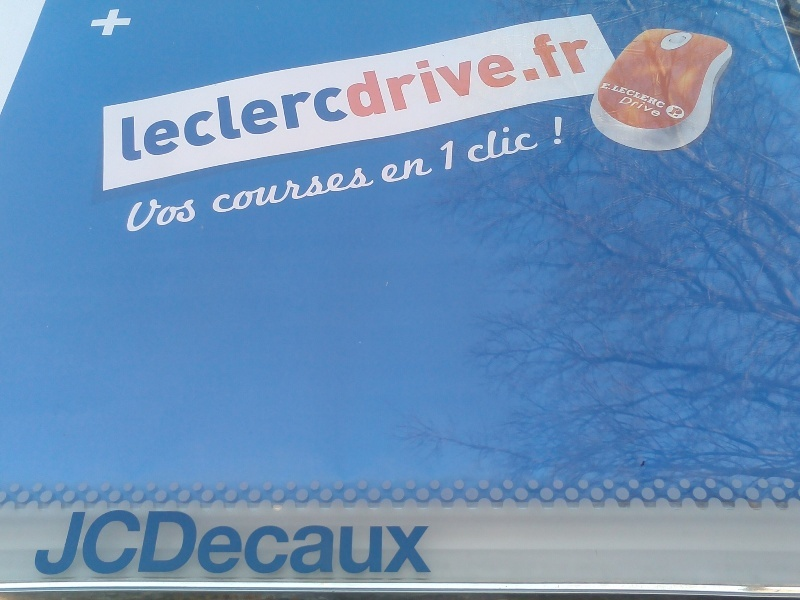text: (129, 23, 144, 167), (145, 23, 160, 167), (161, 23, 176, 167), (177, 23, 192, 167), (193, 23, 208, 167), (209, 23, 224, 167), (225, 23, 240, 167), (241, 23, 256, 167), (257, 23, 272, 167), (273, 23, 288, 167), (289, 23, 304, 167), (305, 23, 320, 167), (321, 23, 336, 167), (337, 23, 352, 167), (353, 23, 368, 167), (369, 23, 384, 167), (385, 23, 400, 167), (401, 23, 416, 167), (417, 23, 432, 167), (433, 23, 448, 167), (449, 23, 464, 167), (465, 23, 480, 167), (481, 23, 496, 167), (497, 23, 512, 167), (513, 23, 528, 167), (529, 23, 544, 167), (545, 23, 560, 167), (561, 23, 576, 167), (577, 23, 592, 167), (118, 23, 128, 167), (49, 507, 64, 581), (65, 507, 80, 581), (81, 507, 96, 581), (97, 507, 112, 581), (113, 507, 128, 581), (129, 507, 144, 581), (145, 507, 160, 581), (161, 507, 176, 581), (177, 507, 192, 581), (193, 507, 208, 581), (209, 507, 224, 581), (225, 507, 240, 581), (241, 507, 256, 581), (257, 507, 272, 581), (273, 507, 288, 581), (289, 507, 304, 581), (305, 507, 320, 581), (321, 507, 336, 581), (337, 507, 352, 581), (353, 507, 368, 581), (369, 507, 384, 581), (385, 507, 400, 581), (401, 507, 416, 581), (417, 507, 432, 581), (593, 23, 599, 167), (225, 163, 240, 215), (241, 163, 256, 215), (257, 163, 272, 215), (273, 163, 288, 215), (289, 163, 304, 215), (305, 163, 320, 215), (321, 163, 336, 215), (337, 163, 352, 215), (353, 163, 368, 215), (38, 507, 48, 581), (481, 120, 496, 167), (497, 120, 512, 167), (513, 120, 528, 167), (145, 190, 160, 237), (161, 190, 176, 237), (177, 190, 192, 237), (211, 163, 224, 215), (369, 163, 381, 215), (433, 507, 441, 581), (468, 120, 480, 167), (547, 109, 560, 151), (529, 120, 540, 167), (436, 134, 448, 177), (97, 8, 112, 40), (113, 8, 128, 40), (385, 155, 400, 186), (401, 155, 416, 186), (417, 155, 432, 186), (609, 81, 624, 110), (625, 81, 640, 110), (641, 81, 656, 110), (449, 134, 459, 177), (135, 190, 144, 237), (625, 95, 640, 119), (641, 95, 656, 119), (657, 81, 668, 110), (561, 109, 568, 151), (193, 190, 198, 237), (674, 106, 688, 120), (129, 8, 134, 40), (603, 81, 608, 110), (657, 95, 663, 119), (94, 8, 96, 40), (383, 155, 384, 186), (433, 155, 434, 186)
